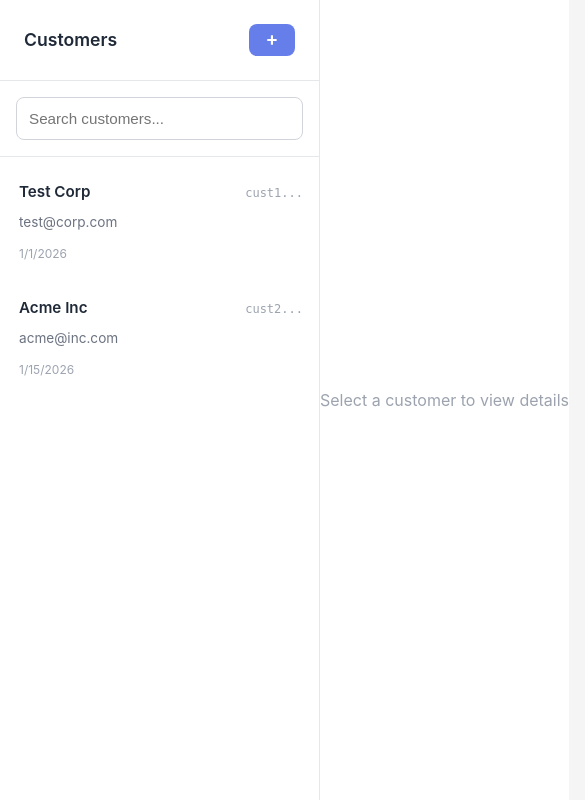
Test case: CustomersPage › should filter customers by name
The image size is (585, 800).
Type "Acme" into the field with placeholder "Search customers..." at (160, 118), box [16,97,303,140]
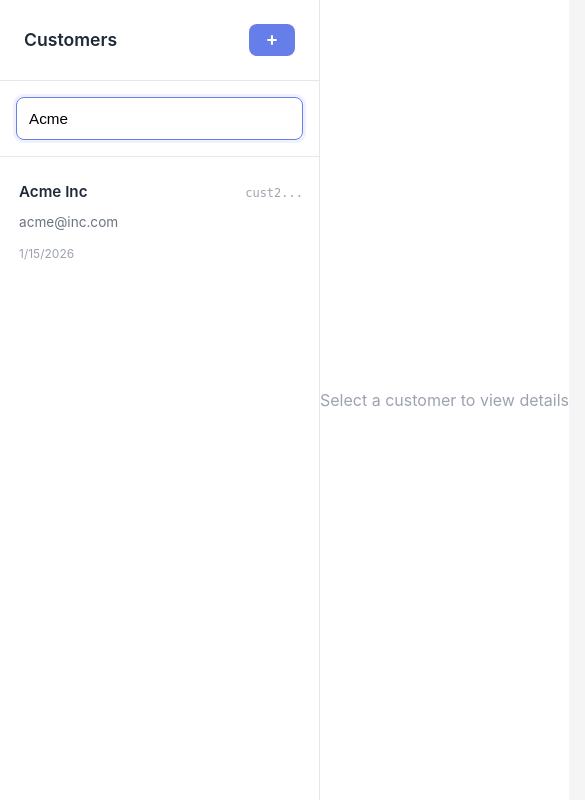
Expected: the heading "Acme Inc" is shown, [19,181,88,204]
Now the heading "Test Corp" is gone
